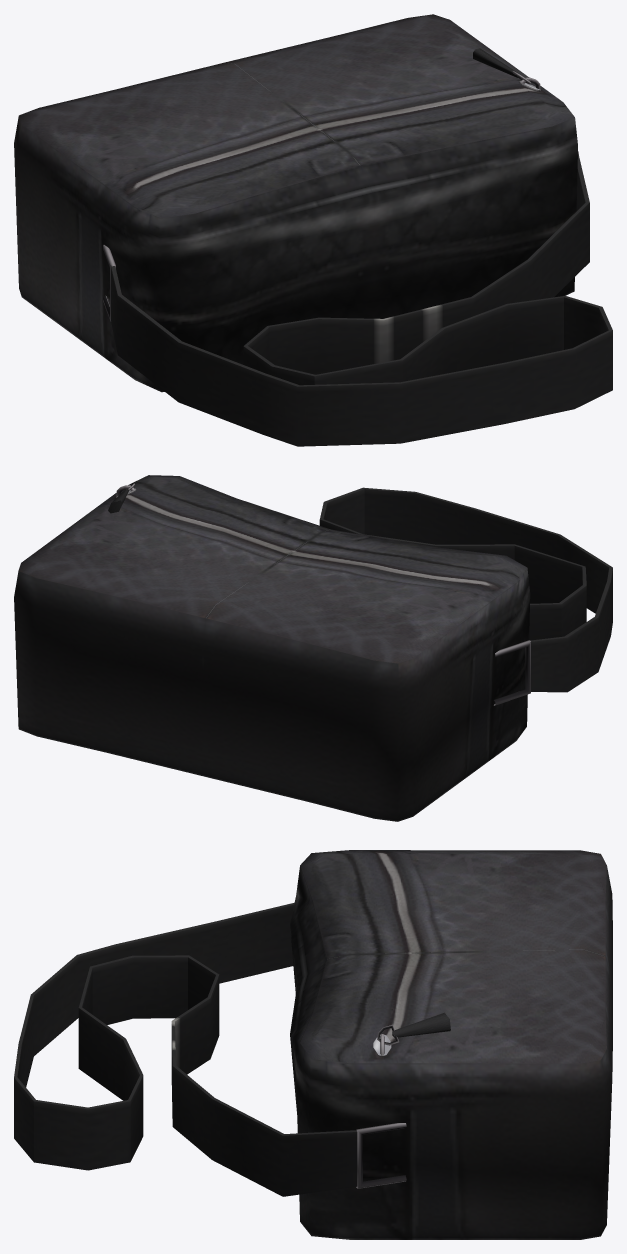
The model's file is TuShuGuan_01_kuabao_01.FBX.
The picture shows the model from 3 angles, top to bottom: view 1: azimuth 30°, elevation 25°; view 2: azimuth 150°, elevation 25°; view 3: azimuth 270°, elevation 25°; orthographic projection. The views are drawn at different scales.
Visible parts, largest first — view 1: TuShuGuan_01_lvxingbao_01; view 2: TuShuGuan_01_lvxingbao_01; view 3: TuShuGuan_01_lvxingbao_01.
Part boxes in pixels (x1,y1,x2,y2): TuShuGuan_01_lvxingbao_01: (14, 14, 612, 446); TuShuGuan_01_lvxingbao_01: (14, 475, 612, 821); TuShuGuan_01_lvxingbao_01: (14, 850, 612, 1239).
Size of the model in its own units: 208 by 83 by 218.
